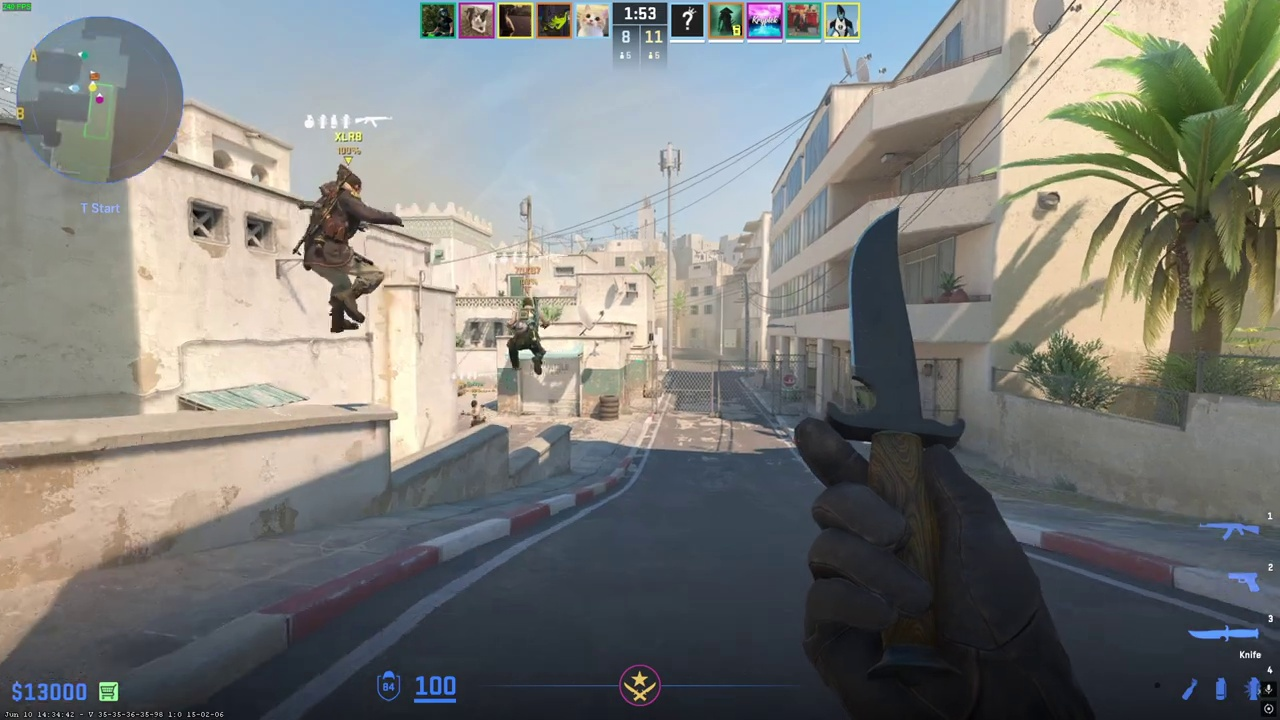Terrorist: (300, 165, 383, 333), (509, 297, 546, 375), (469, 399, 484, 427)
